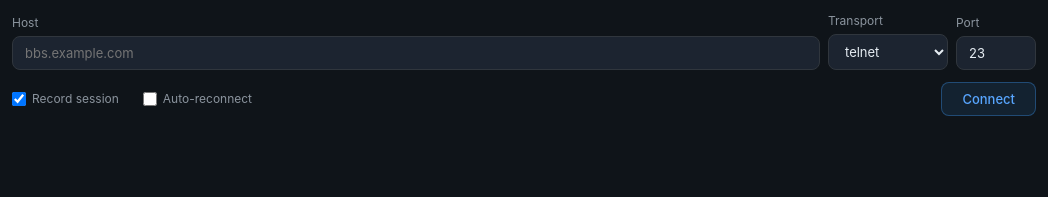
Test: connect workflow › builds a complete SSH request while submission is pending
Select "ssh" in the dropdown: (888, 52) [828, 34, 948, 70]
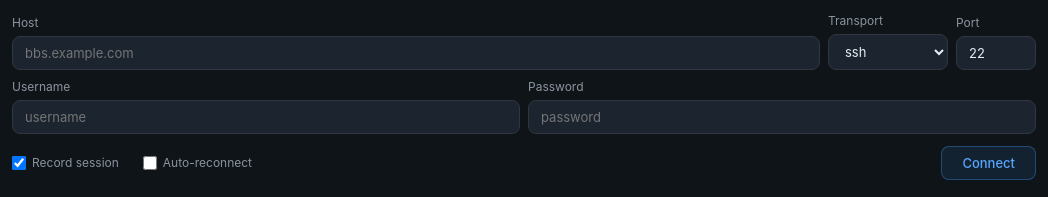
In the field with placeholder "bbs.example.com": (416, 53) [12, 36, 820, 70], type "host.test"
Replace the text in the field with placeholder "23" with "invalid": (996, 53) [956, 36, 1036, 70]
In the field with placeholder "Username": (266, 117) [12, 100, 520, 134], type " alice "
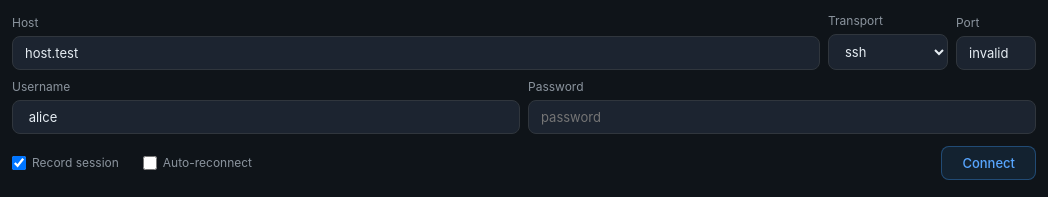
In the password field with placeholder "Password": (782, 117) [528, 100, 1036, 134], type "secret"
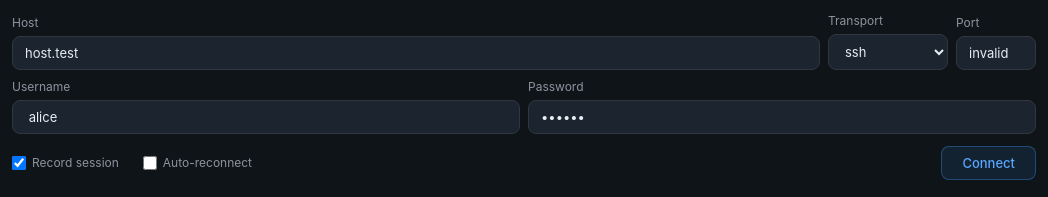
Click the checkbox labelled "Record session": click(19, 163) [12, 156, 26, 170]
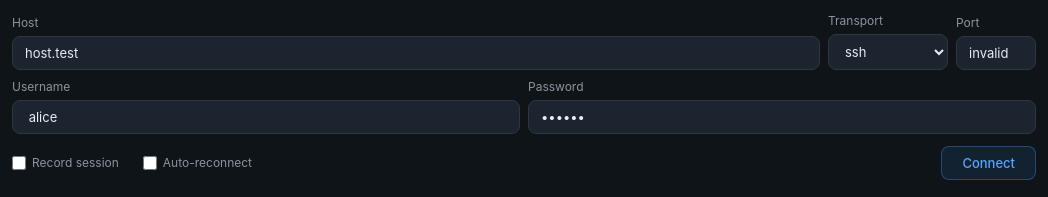
Click the checkbox labelled "Auto-reconnect": click(150, 163) [143, 156, 157, 170]
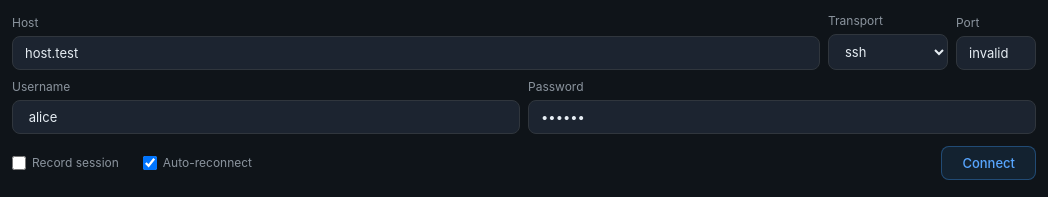
Click the button "Connect": click(989, 163) [941, 146, 1036, 180]
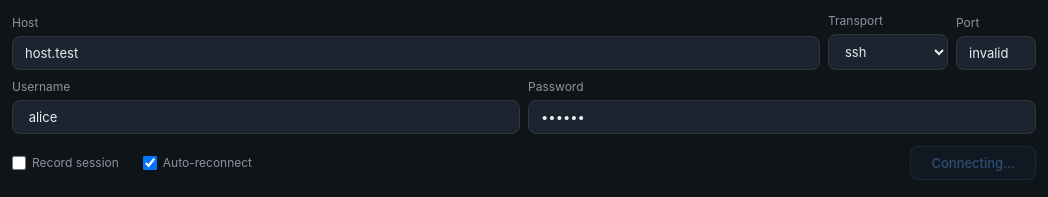
Expected: the button "Connecting…" is disabled, [910, 146, 1036, 180]
